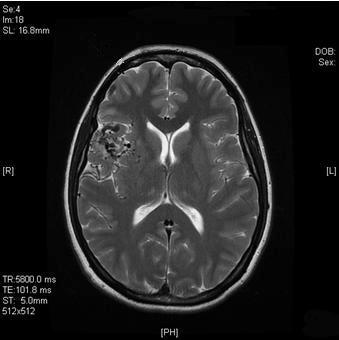Normal_Brain: (3, 1, 339, 340)
